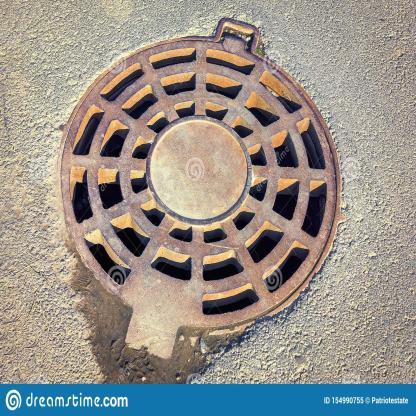closed manhole-not overflowing-: (59, 18, 342, 360)
